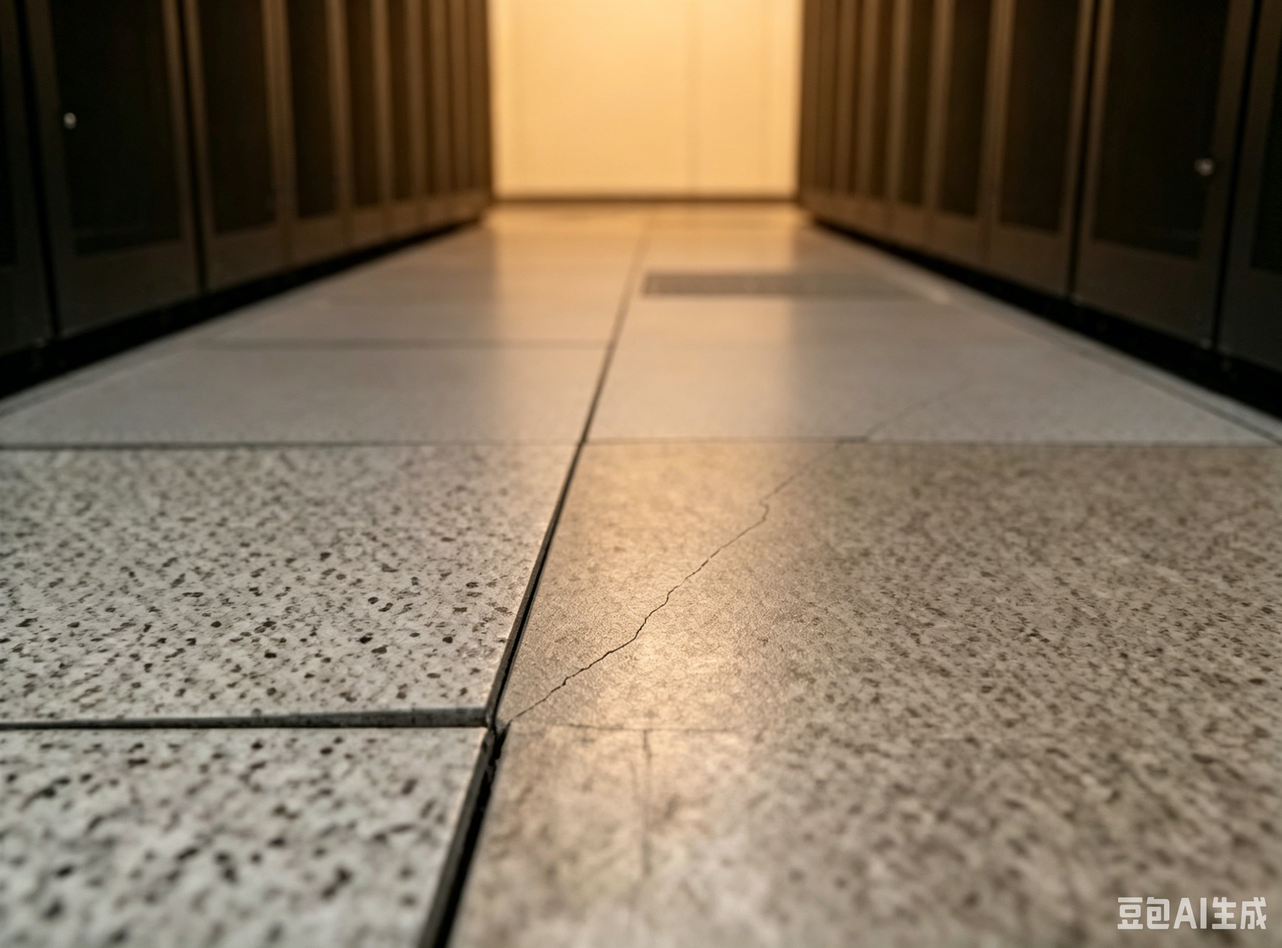floor_defect: (22, 673, 562, 781), (393, 787, 500, 948), (555, 599, 699, 680), (634, 538, 764, 594), (732, 486, 804, 541)
